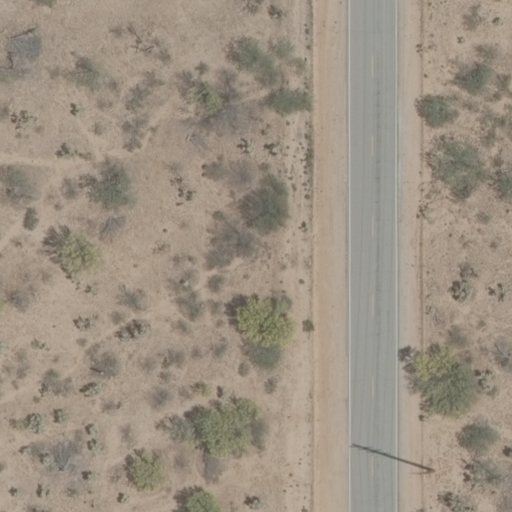DT: (407, 457, 435, 479)
